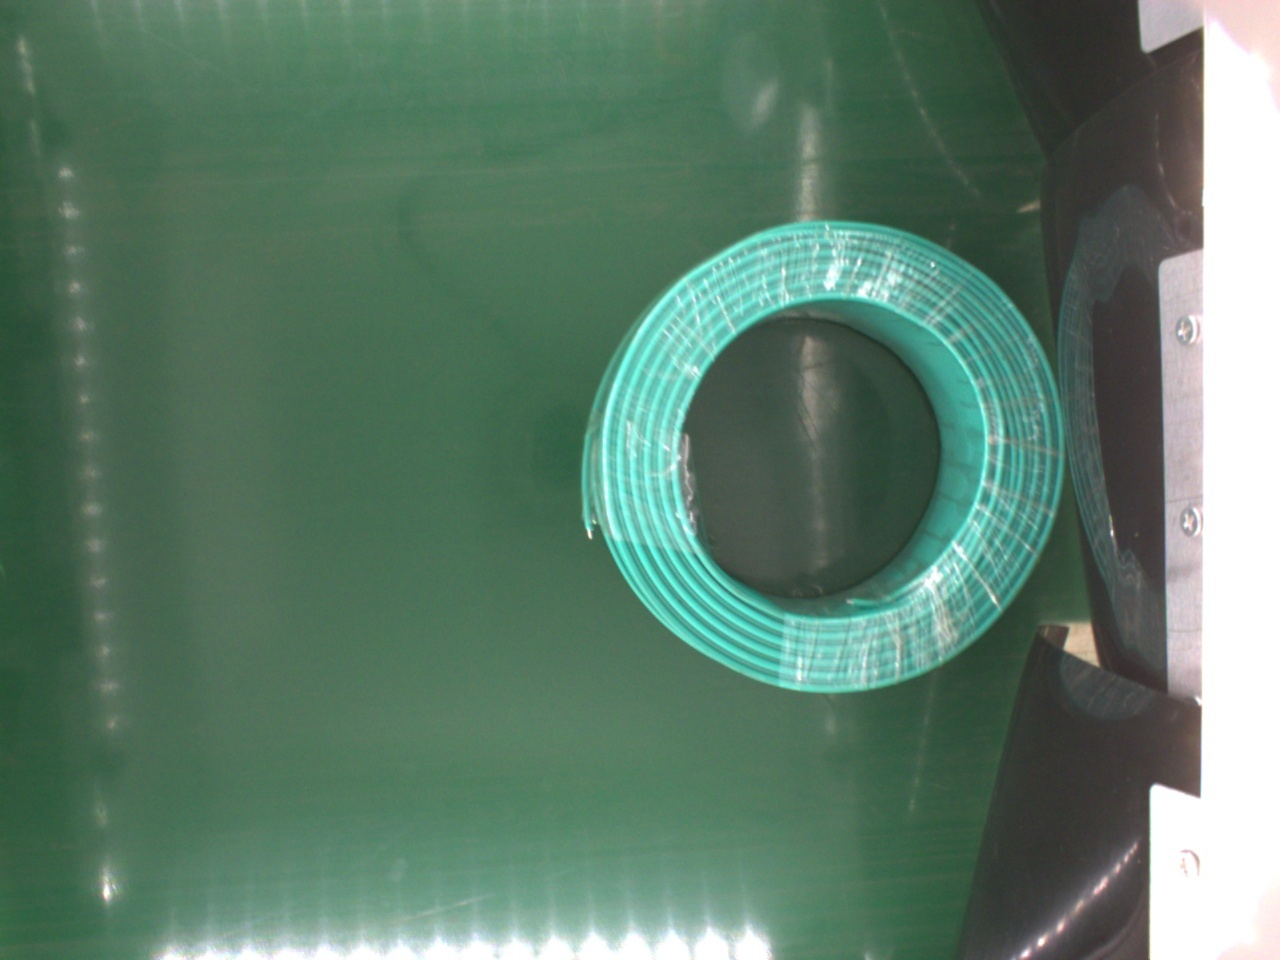green: (582, 219, 1061, 694)
